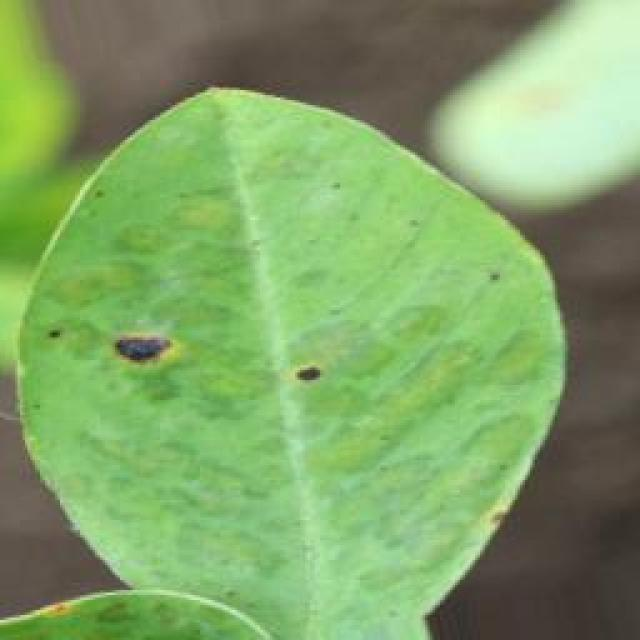Yellowish: (32, 308, 210, 391), (278, 341, 358, 422), (464, 251, 545, 324)
